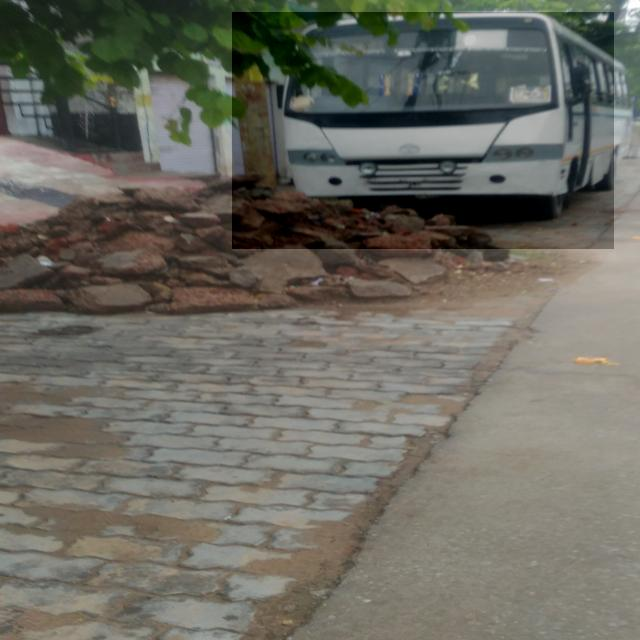Bus: (232, 12, 614, 249)
